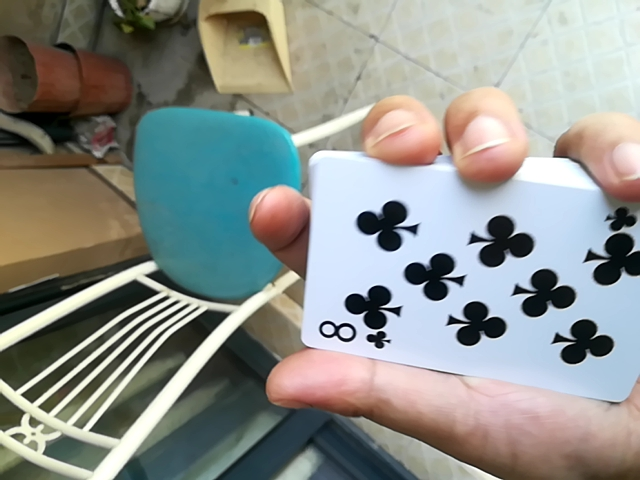mh 8: (298, 141, 623, 411)
